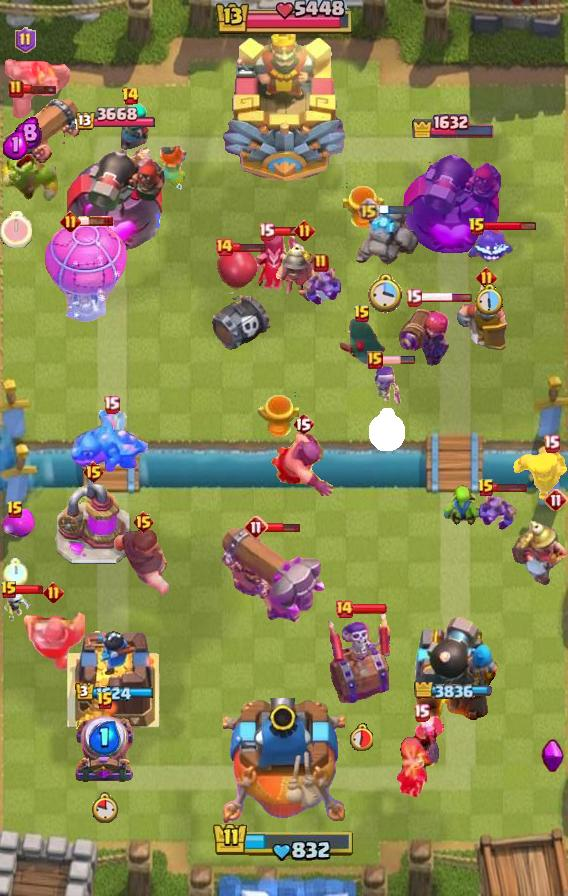bandit: (338, 317, 386, 373)
bar: (419, 292, 473, 303), (484, 221, 537, 232), (378, 203, 415, 216), (352, 603, 388, 615), (78, 215, 114, 227), (22, 83, 58, 95), (232, 241, 267, 253), (273, 225, 308, 237), (265, 522, 301, 533), (493, 482, 528, 493), (10, 584, 44, 595), (380, 355, 416, 365)
bar-level: (244, 515, 268, 539), (544, 488, 568, 512), (132, 510, 155, 534), (82, 460, 105, 484), (15, 27, 36, 53), (357, 198, 380, 221), (292, 412, 314, 436), (43, 582, 64, 603), (476, 267, 497, 288), (294, 220, 315, 241), (60, 211, 81, 232), (334, 599, 354, 619), (214, 237, 234, 257), (121, 86, 140, 106), (96, 691, 114, 711), (0, 580, 18, 600), (6, 500, 24, 520), (477, 478, 495, 498), (353, 304, 371, 324), (468, 217, 486, 237), (413, 703, 430, 722), (543, 434, 560, 453), (103, 395, 120, 414), (405, 288, 422, 307), (258, 222, 275, 241), (313, 253, 329, 273), (8, 79, 24, 99), (367, 351, 383, 369)
barbarian-evolution: (512, 449, 568, 502)
cannoneer-tower: (63, 136, 165, 256), (403, 138, 503, 256), (403, 615, 503, 731)
clock: (368, 408, 406, 452), (368, 274, 403, 314), (0, 211, 32, 248), (475, 283, 505, 316), (92, 792, 119, 823), (3, 558, 28, 587), (349, 723, 373, 751)
electro-dragon: (69, 410, 153, 474)
electro-spirit: (466, 227, 514, 267)
elixir: (89, 721, 121, 755), (14, 116, 42, 149), (3, 130, 28, 160)
elixir-golem-small: (0, 509, 36, 539)
evolution-symbol: (541, 739, 565, 775)
executioner: (270, 433, 336, 499)
firecracker-evolution: (397, 293, 453, 369)
goblin: (444, 482, 484, 526)
goblin-brawler: (0, 154, 58, 208)
golemite: (0, 55, 70, 121), (352, 209, 418, 271)
king-tower: (220, 21, 348, 181), (223, 698, 345, 826)
king-tower-bar: (212, 821, 356, 863), (213, 0, 355, 38)
knight: (21, 608, 85, 674)
miner: (273, 237, 335, 305), (510, 515, 568, 585)
minion: (478, 491, 520, 531), (300, 266, 342, 306)
mortar-evolution: (73, 715, 137, 785)
night-witch: (396, 715, 446, 801), (252, 230, 308, 300)
queen-tower: (66, 621, 162, 731)
rascal-girl: (109, 102, 151, 152)
royal-recruit: (456, 277, 516, 351)
skeleton: (3, 589, 35, 627)
skeleton-evolution: (371, 364, 403, 406)
tower-bar: (411, 111, 496, 138), (73, 107, 155, 133), (75, 682, 154, 702), (414, 682, 493, 699)
valkyrie: (155, 141, 193, 193)
